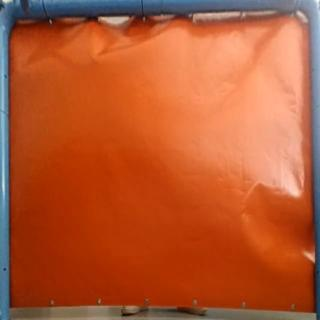Hit-hRxx: (85, 50, 103, 66)
